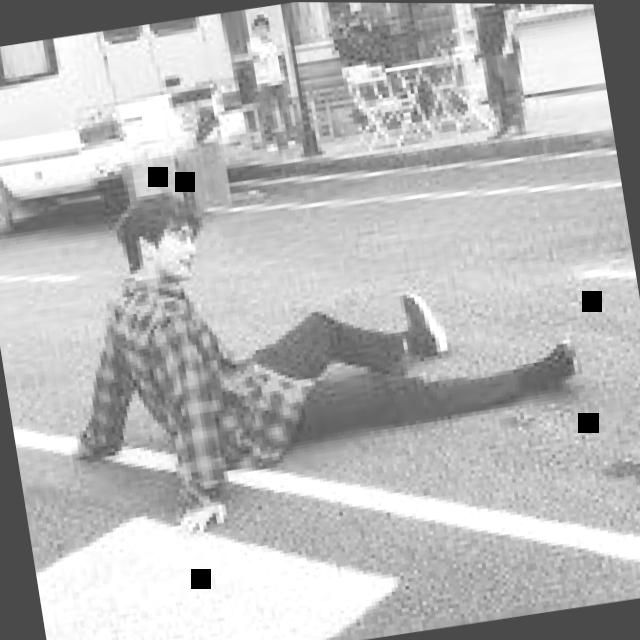Fall-Detected: (22, 125, 616, 530)
